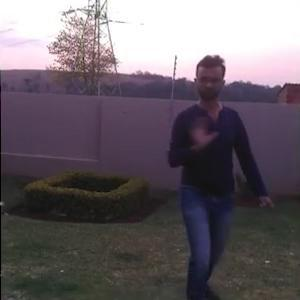follow_hand: (187, 112, 218, 149)
